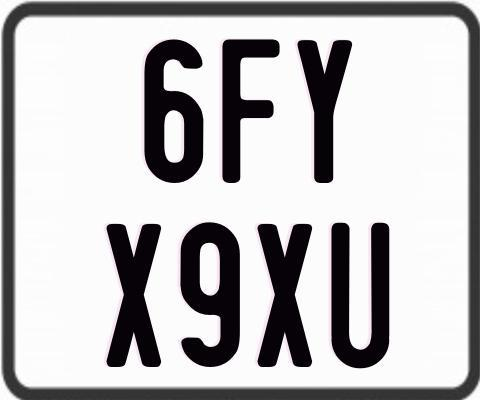6: (142, 37, 206, 181)
9: (180, 220, 245, 366)
F: (220, 36, 281, 186)
U: (329, 223, 389, 370)
X: (256, 221, 317, 367), (104, 222, 164, 370)
Y: (294, 40, 354, 184)
